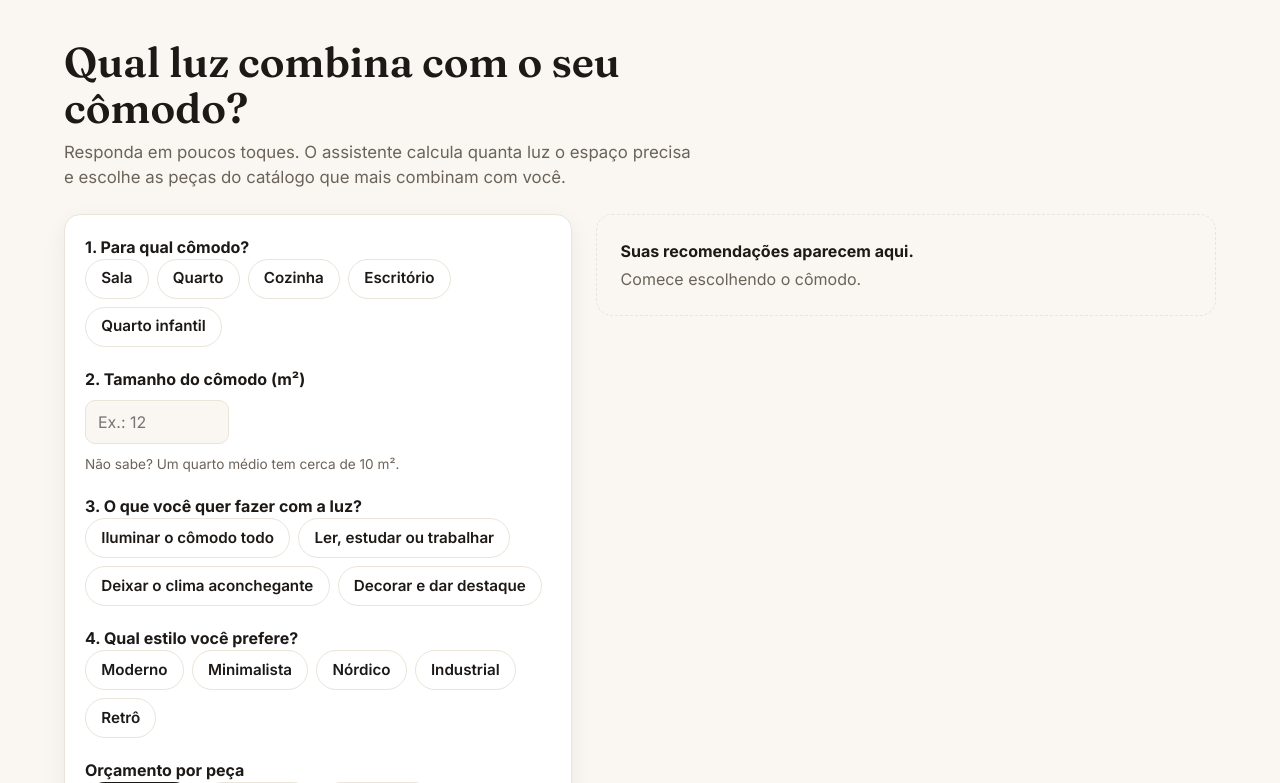
Test: pagina Assistente › avisa quando nada cabe no orçamento
The image size is (1280, 783).
Click the button "Sala". click: (117, 279)
box: [85,259,149,299]
(page scrolled)
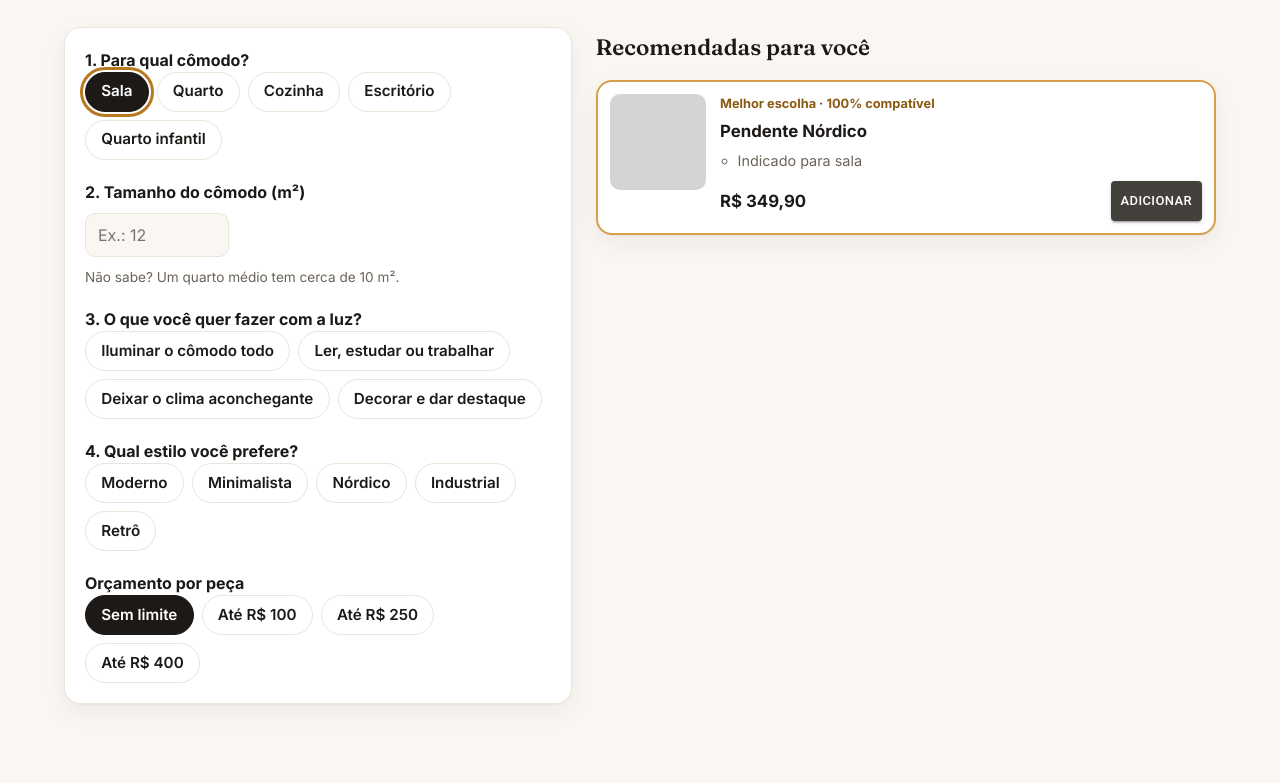
Click the button "Até R$ 100". click: (257, 616)
box: [202,596,313,636]
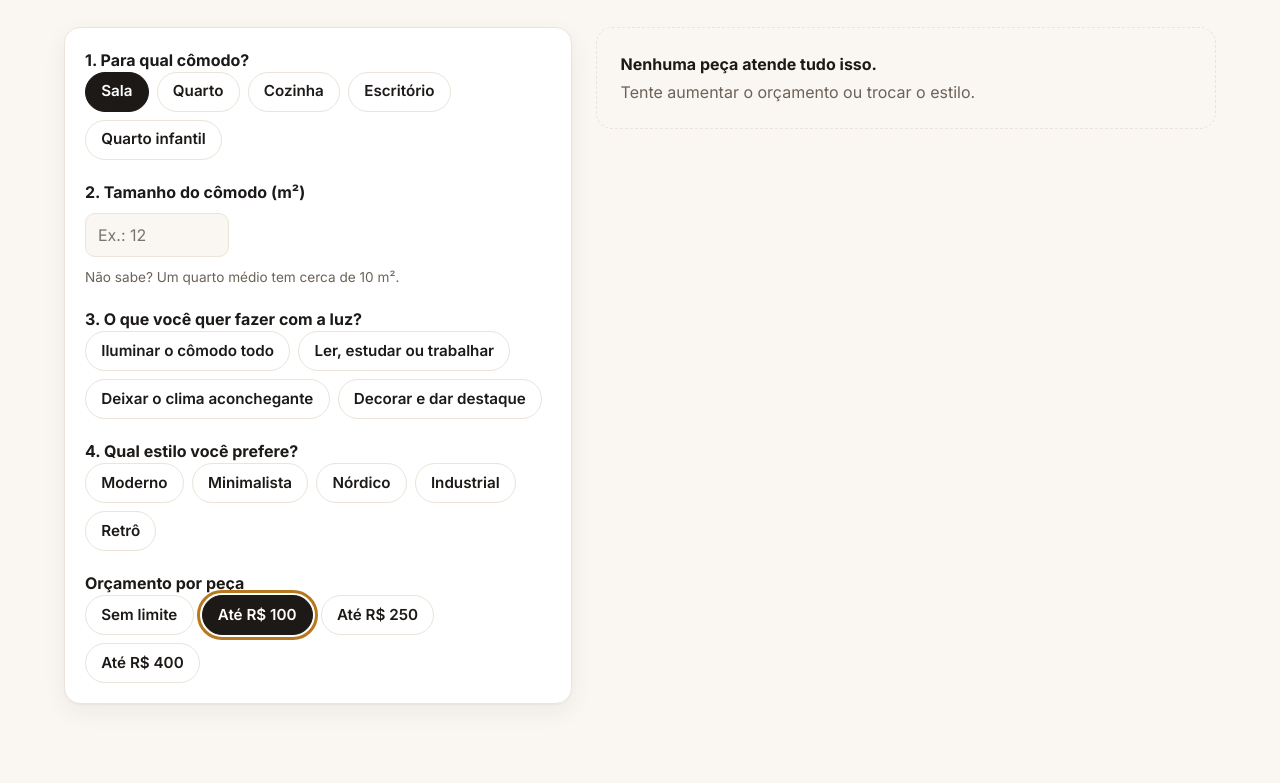
expect the text "Nenhuma peça atende tudo isso." is shown: met, box [621,54,877,74]
